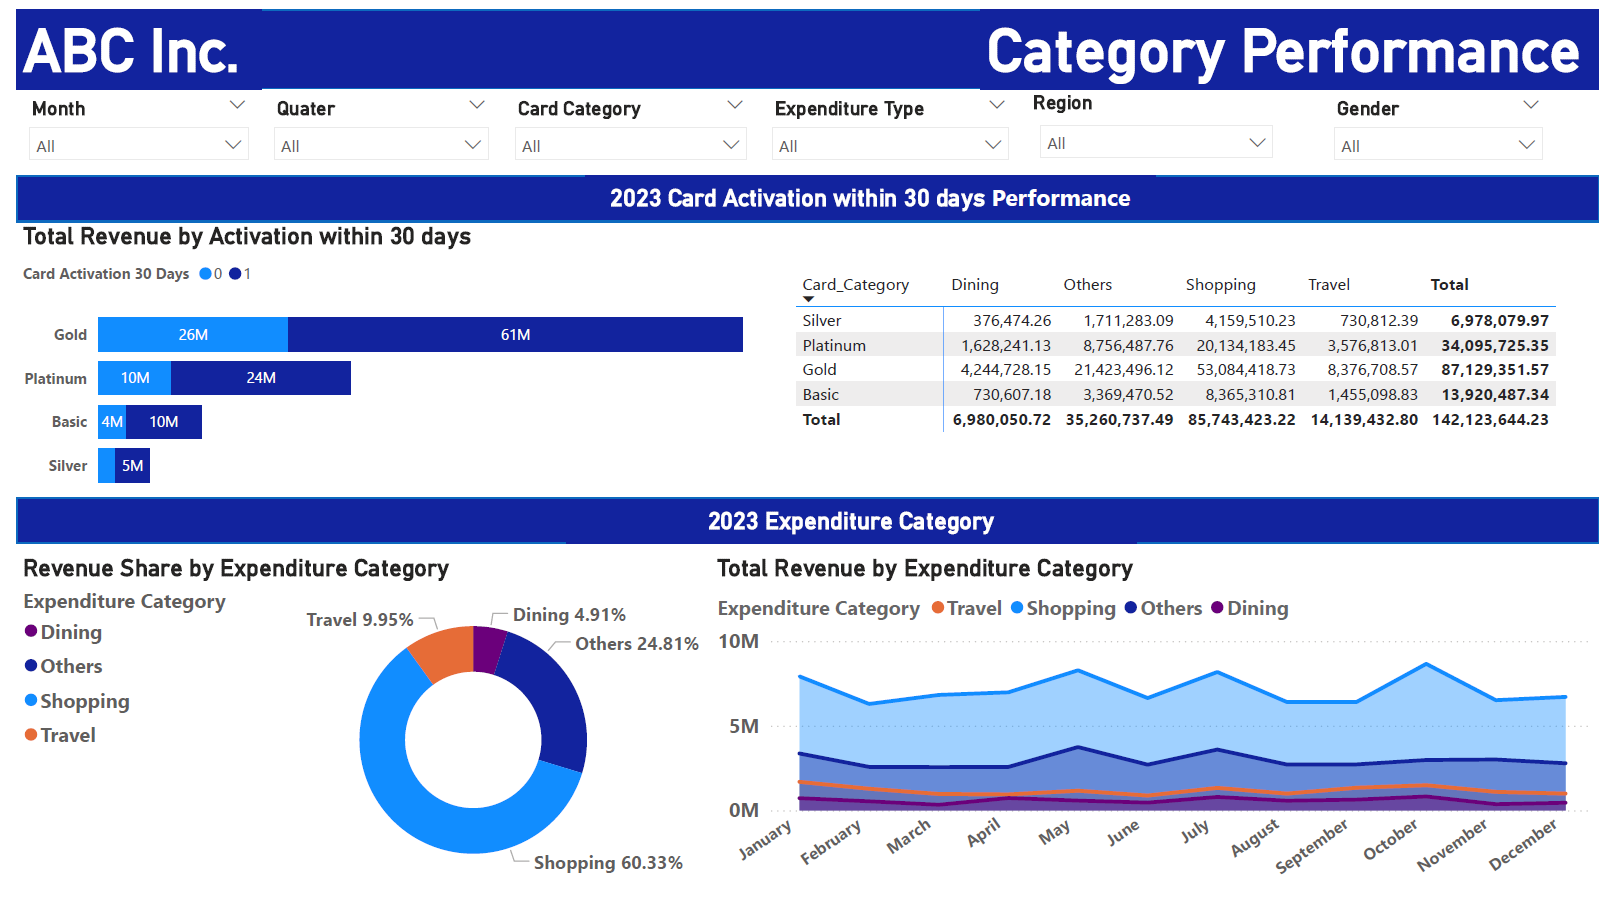

The dashboard page shown, as its layout file describes it:
{"tool":"powerbi","page":{"name":"Category  Performance","canvas":[1280,720],"ordinal":3},"visuals":[{"type":"donutChart","title":"Revenue Share by Expenditure Category","fields":{"Y":["Sum(credit_card_detail_1103.Total_Revenue)"],"Series":["credit_card_detail_1103.Exp_Type"]},"box":[0,439.7,561.7,280.3],"z":0},{"type":"barChart","title":"Total Revenue by Activation within 30 days","fields":{"Category":["credit_card_detail_1103.Card_Category"],"Y":["Sum(credit_card_detail_1103.Total_Revenue)"],"Series":["credit_card_detail_1103.Activation_30_Days"]},"box":[0,171.7,610.3,231.7],"z":1000},{"type":"pivotTable","fields":{"Rows":["credit_card_detail_1103.Card_Category"],"Columns":["credit_card_detail_1103.Exp_Type"],"Values":["Sum(credit_card_detail_1103.Total_Revenue)"]},"box":[625.9,206.9,653.8,160.3],"z":2000},{"type":"shape","box":[0,131.6,1280.6,40.3],"z":3000},{"type":"slicer","fields":{"Values":["credit_card_detail_1103.Qtr"]},"box":[197.5,64.8,194.3,58.3],"z":4000},{"type":"slicer","fields":{"Values":["credit_card_detail_1103.Card_Category"]},"box":[393.5,64.8,207.3,58.3],"z":5000},{"type":"slicer","fields":{"Values":["customer_detail_1103.Gender"]},"box":[1055.7,64.8,189.4,56.7],"z":6000},{"type":"slicer","fields":{"Values":["credit_card_detail_1103.Exp_Type"]},"box":[600.7,64.8,212.1,58.3],"z":7000},{"type":"slicer","title":"Region","fields":{"Values":["customer_detail_1103.State_cd"]},"box":[817.7,64.8,208.9,56.7],"z":8000},{"type":"slicer","fields":{"Values":["credit_card_detail_1103.Month"]},"box":[0,64.8,197.5,56.7],"z":9000},{"type":"shape","box":[0,0,1280.6,64.5],"z":10000},{"type":"shape","box":[0,393.1,1280.6,37.6],"z":11000},{"type":"lineChart","title":"Total Revenue by Expenditure Category","fields":{"Category":["credit_card_detail_1103.Week_Start_Date.Variation.Date Hierarchy.Month"],"Y":["Sum(credit_card_detail_1103.Total_Revenue)"],"Series":["credit_card_detail_1103.Exp_Type"]},"box":[561.9,440.4,718.9,280.1],"z":12000},{"type":"textbox","box":[0,3.6,207.8,57.3],"z":13000},{"type":"textbox","box":[828.4,0,451.3,64.5],"z":14000},{"type":"textbox","box":[437,131.6,485.4,40.3],"z":15000},{"type":"textbox","box":[437,393.1,461.2,34.9],"z":16000}]}

Visuals, with their boxes in screenshot pixels (x1, y1, x2, y2), scaled from the page's 1280x720 canvas onto the 1612x904 screenshot:
"Revenue Share by Expenditure Category" donutChart: 0, 552, 707, 903
"Total Revenue by Activation within 30 days" barChart: 0, 216, 769, 506
pivotTable - credit_card_detail_1103.Card_Category x credit_card_detail_1103.Exp_Type: 788, 260, 1611, 461
shape: 0, 165, 1611, 216
slicer - credit_card_detail_1103.Qtr: 249, 81, 493, 155
slicer - credit_card_detail_1103.Card_Category: 496, 81, 757, 155
slicer - customer_detail_1103.Gender: 1330, 81, 1568, 153
slicer - credit_card_detail_1103.Exp_Type: 757, 81, 1024, 155
"Region" slicer: 1030, 81, 1293, 153
slicer - credit_card_detail_1103.Month: 0, 81, 249, 153
shape: 0, 0, 1611, 81
shape: 0, 494, 1611, 541
"Total Revenue by Expenditure Category" lineChart: 708, 553, 1611, 903
textbox: 0, 5, 262, 76
textbox: 1043, 0, 1611, 81
textbox: 550, 165, 1162, 216
textbox: 550, 494, 1131, 537
